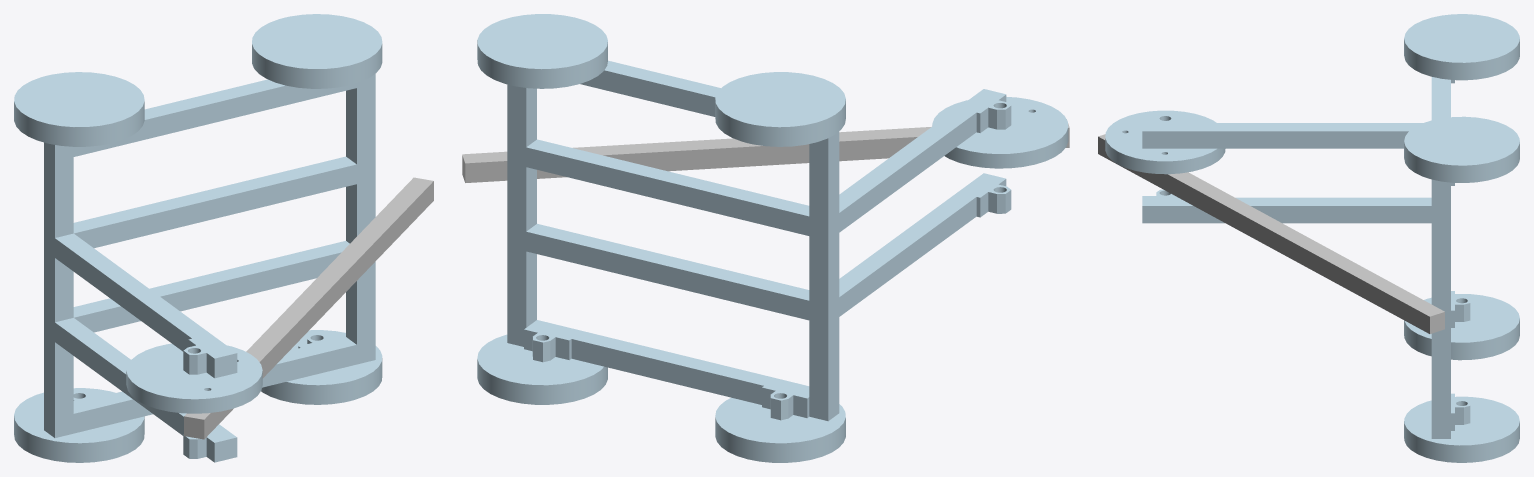
Rendered from edubot-lores.gltf.
3 renders of one model, left to right at view 1: azimuth 30°, elevation 25°; view 2: azimuth 150°, elevation 25°; view 3: azimuth 270°, elevation 25°, orthographic. The views are drawn at different scales.
Visible parts, largest first — view 1: mesh8_meshnode_8 (×6), mesh5_meshnode_5 (×6), mesh13_meshnode_13 (×2), mesh11_meshnode_11 (×4), mesh7_meshnode_7 (×2), mesh6_meshnode_6 (×2), mesh4_meshnode_4, mesh28_meshnode_28, mesh29_meshnode_29, mesh12_meshnode_12 (×2), mesh2_meshnode_2, mesh32_meshnode_32; view 2: mesh5_meshnode_5 (×8), mesh8_meshnode_8 (×6), mesh6_meshnode_6 (×2), mesh13_meshnode_13 (×2), mesh11_meshnode_11 (×4), mesh12_meshnode_12 (×2), mesh27_meshnode_27, mesh4_meshnode_4, mesh28_meshnode_28, mesh2_meshnode_2; view 3: mesh6_meshnode_6 (×3), mesh13_meshnode_13 (×2), mesh11_meshnode_11 (×4), mesh12_meshnode_12 (×2), mesh5_meshnode_5 (×3), mesh29_meshnode_29, mesh28_meshnode_28, mesh4_meshnode_4, mesh2_meshnode_2.
Boxes of the visible parts, bbox=[...] form: mesh8_meshnode_8 (×6): bbox=[44, 88, 356, 437]; mesh5_meshnode_5 (×6): bbox=[55, 79, 356, 441]; mesh13_meshnode_13 (×2): bbox=[14, 14, 382, 126]; mesh11_meshnode_11 (×4): bbox=[14, 44, 382, 462]; mesh7_meshnode_7 (×2): bbox=[55, 74, 375, 437]; mesh6_meshnode_6 (×2): bbox=[73, 83, 356, 433]; mesh4_meshnode_4: bbox=[126, 343, 262, 399]; mesh28_meshnode_28: bbox=[184, 177, 433, 419]; mesh29_meshnode_29: bbox=[204, 181, 433, 438]; mesh12_meshnode_12 (×2): bbox=[14, 330, 382, 443]; mesh2_meshnode_2: bbox=[126, 371, 262, 413]; mesh32_meshnode_32: bbox=[184, 416, 204, 439]; mesh5_meshnode_5 (×8): bbox=[507, 60, 1002, 420]; mesh8_meshnode_8 (×6): bbox=[526, 70, 976, 420]; mesh6_meshnode_6 (×2): bbox=[526, 147, 809, 320]; mesh13_meshnode_13 (×2): bbox=[477, 14, 845, 127]; mesh11_meshnode_11 (×4): bbox=[477, 40, 845, 462]; mesh12_meshnode_12 (×2): bbox=[477, 334, 845, 443]; mesh27_meshnode_27: bbox=[465, 128, 1069, 182]; mesh4_meshnode_4: bbox=[932, 96, 1068, 153]; mesh28_meshnode_28: bbox=[462, 119, 1069, 163]; mesh2_meshnode_2: bbox=[944, 128, 1068, 168]; mesh6_meshnode_6 (×3): bbox=[1142, 131, 1450, 438]; mesh13_meshnode_13 (×2): bbox=[1404, 14, 1519, 165]; mesh11_meshnode_11 (×4): bbox=[1404, 39, 1519, 462]; mesh12_meshnode_12 (×2): bbox=[1404, 294, 1519, 445]; mesh5_meshnode_5 (×3): bbox=[1142, 77, 1450, 205]; mesh29_meshnode_29: bbox=[1098, 136, 1429, 333]; mesh28_meshnode_28: bbox=[1098, 134, 1444, 316]; mesh4_meshnode_4: bbox=[1105, 110, 1216, 161]; mesh2_meshnode_2: bbox=[1105, 138, 1225, 174].
Size of the model in its own units: 0.3557 by 0.255 by 0.3279.
